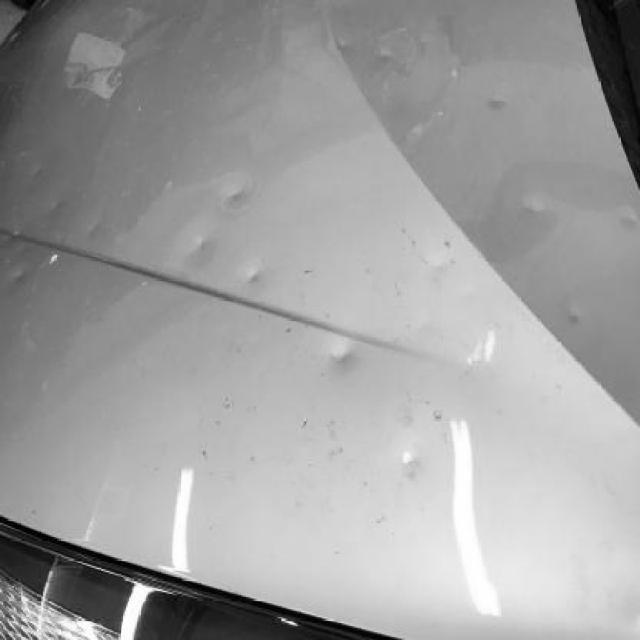dent: (395, 449, 428, 477), (222, 180, 245, 206), (188, 236, 214, 259), (482, 93, 510, 114), (329, 343, 351, 368), (560, 305, 583, 328), (520, 194, 546, 213), (619, 206, 639, 228), (245, 263, 262, 283), (45, 196, 63, 211), (26, 165, 46, 178), (14, 266, 27, 285)
